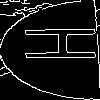H: (25, 25, 100, 62)
